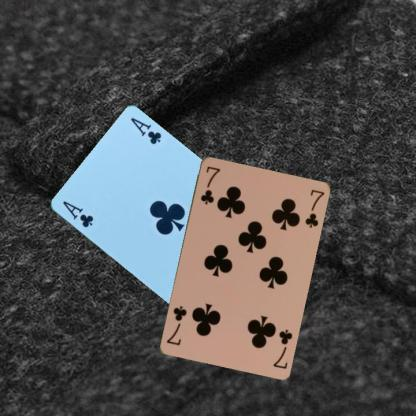7c: (270, 326, 293, 370), (198, 163, 221, 206)
Ac: (60, 198, 95, 229)
